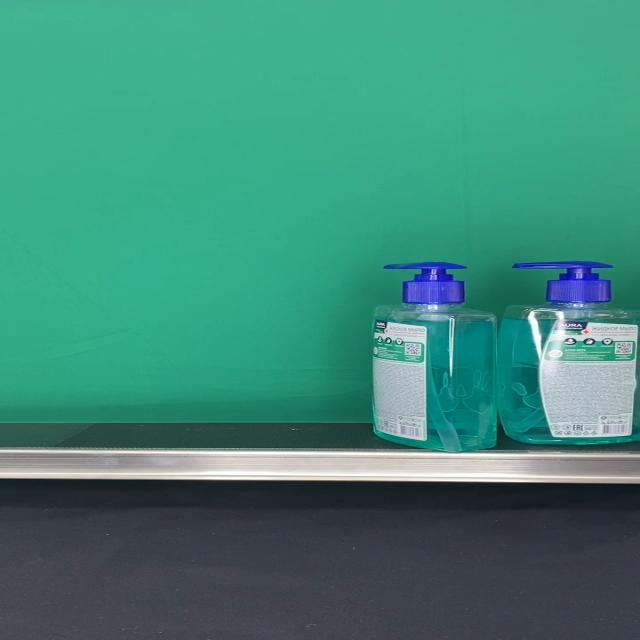Bottle: (497, 262, 640, 444), (369, 262, 496, 450)
Cap: (510, 261, 614, 303), (383, 262, 468, 303)
